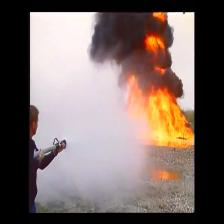fire: (145, 97, 187, 135)
smoke: (101, 13, 145, 68)
